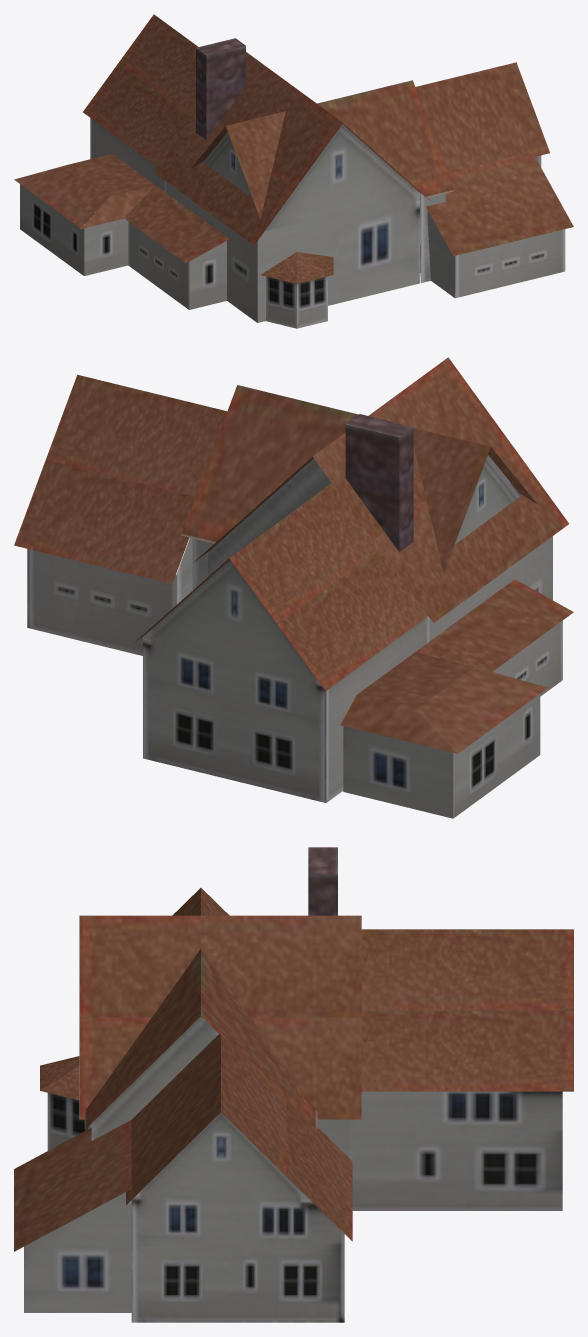
Rendered from building2.obj.
3 renders of one model, top to bottom at view 1: azimuth 30°, elevation 25°; view 2: azimuth 150°, elevation 25°; view 3: azimuth 270°, elevation 25°, orthographic. The views are drawn at different scales.
Visible parts, largest first — view 1: building5; view 2: building5; view 3: building5.
Boxes of the visible parts, x1=… form: building5: x1=14, y1=14, x2=573, y2=328; building5: x1=14, y1=357, x2=573, y2=818; building5: x1=14, y1=847, x2=573, y2=1322.
Bounding box in the file's own units: 0.5458 × 0.2721 × 0.4784.
Materials: 1 (1 with a texture image).
